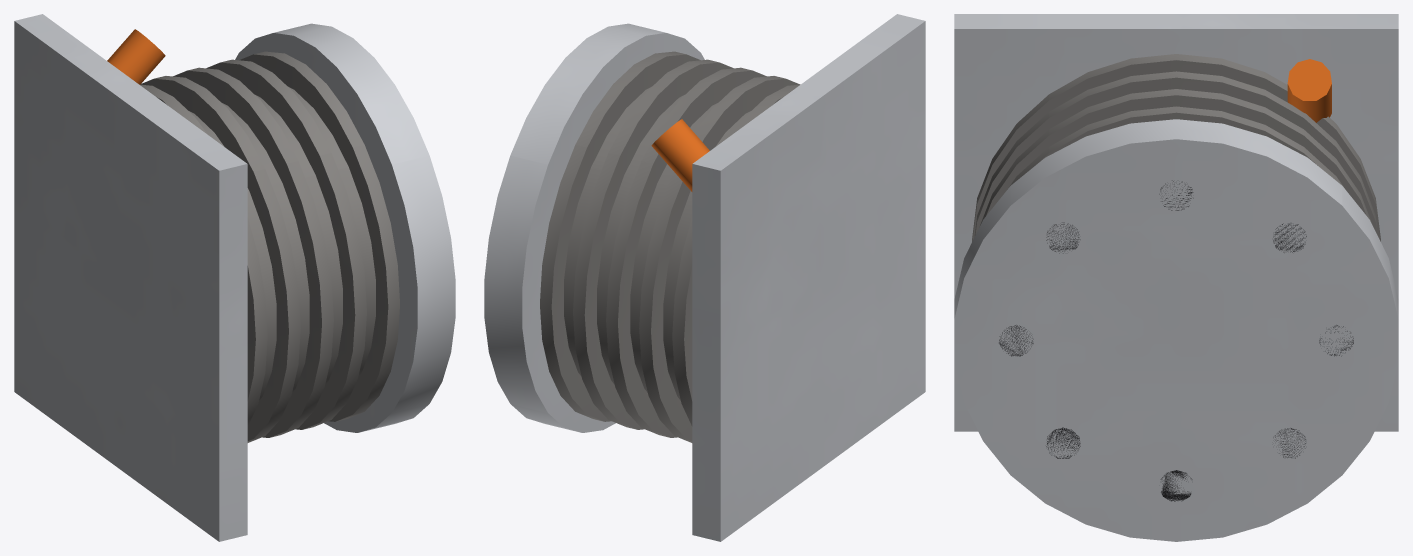
Rendered from rover19_hub_drive_motor_s.glb.
3 views of the same model, side by side, from view 1: azimuth 30°, elevation 25°; view 2: azimuth 150°, elevation 25°; view 3: azimuth 270°, elevation 25° (orthographic). The views are drawn at different scales.
Parts seen in each view (by area): view 1: mount_plate, fins, wheel_hub, stator, cable; view 2: mount_plate, fins, wheel_hub, stator, cable; view 3: wheel_hub, mount_plate, fins, hub_bolts, cable.
Boxes of the visible parts, x1,y1,x2,y2 form: mount_plate: [14, 14, 247, 541]; fins: [139, 51, 399, 442]; wheel_hub: [235, 23, 455, 432]; stator: [189, 86, 375, 400]; cable: [107, 29, 165, 84]; mount_plate: [692, 14, 925, 541]; fins: [540, 51, 800, 442]; wheel_hub: [484, 23, 704, 432]; stator: [564, 86, 750, 400]; cable: [651, 119, 709, 191]; wheel_hub: [954, 119, 1398, 541]; mount_plate: [954, 14, 1398, 431]; fins: [972, 54, 1380, 241]; hub_bolts: [999, 180, 1353, 501]; cable: [1287, 59, 1331, 122].
Bounding box in the file's own units: 0.12 × 0.18 × 0.18.
Materials: 4 (2 with a texture image).
